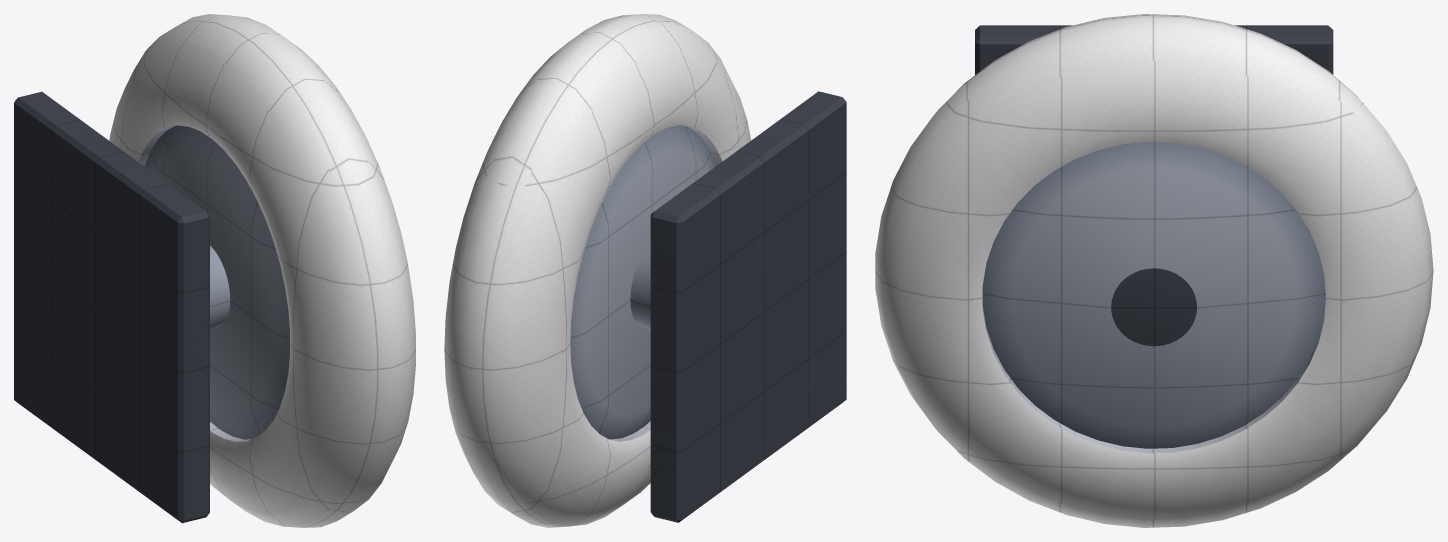
File: R4M_WheelM_Side_Offroad.glb
The picture shows the model from 3 angles, left to right: view 1: azimuth 30°, elevation 25°; view 2: azimuth 150°, elevation 25°; view 3: azimuth 270°, elevation 25°; orthographic projection. The views are drawn at different scales.
Visible parts, largest first — view 1: R4M_WheelM_Side_Offroad_Rotor, R4M_WheelM_Side_Offroad_Mount; view 2: R4M_WheelM_Side_Offroad_Rotor, R4M_WheelM_Side_Offroad_Mount; view 3: R4M_WheelM_Side_Offroad_Rotor, R4M_WheelM_Side_Offroad_Mount.
Part boxes in pixels (<box>): R4M_WheelM_Side_Offroad_Rotor: <box>109,14,415,527</box>; R4M_WheelM_Side_Offroad_Mount: <box>14,91,230,523</box>; R4M_WheelM_Side_Offroad_Rotor: <box>444,14,751,527</box>; R4M_WheelM_Side_Offroad_Mount: <box>630,91,846,522</box>; R4M_WheelM_Side_Offroad_Rotor: <box>875,14,1433,527</box>; R4M_WheelM_Side_Offroad_Mount: <box>975,25,1333,74</box>.
Size of the model in its own units: 0.402 by 0.7795 by 0.779.
Materials: 4 (3 with a texture image).
